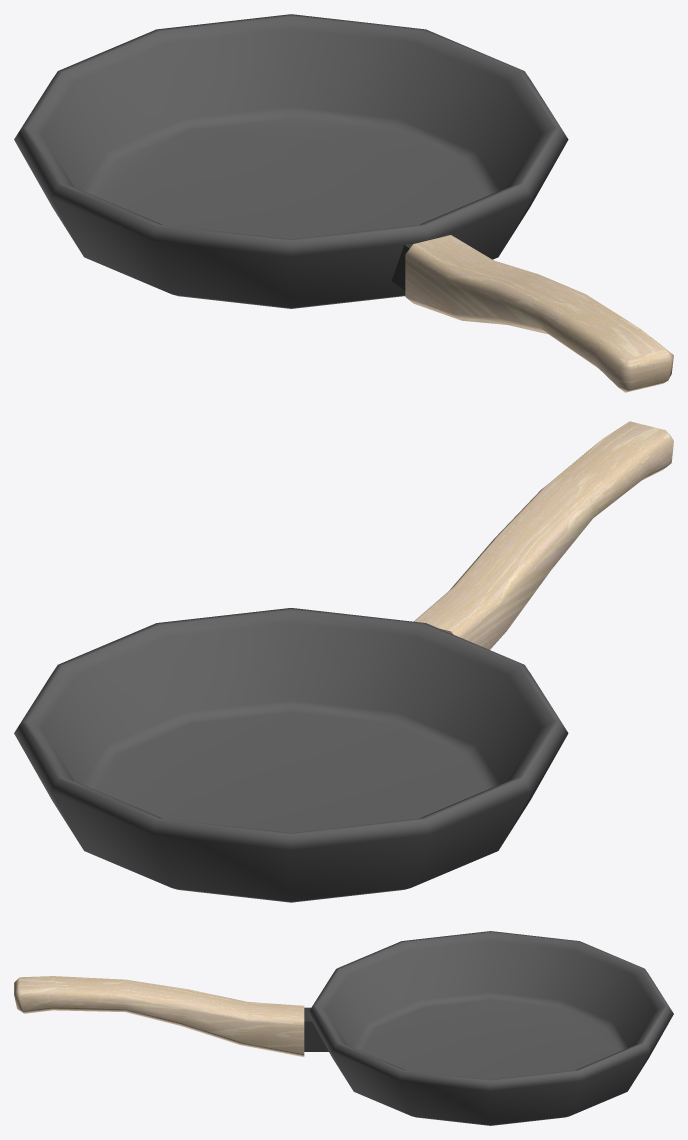
The model's file is prop_006.fbx.
3 renders of one model, top to bottom at view 1: azimuth 30°, elevation 25°; view 2: azimuth 150°, elevation 25°; view 3: azimuth 270°, elevation 25°, orthographic. The views are drawn at different scales.
Visible parts, largest first — view 1: prop_006; view 2: prop_006; view 3: prop_006.
Boxes of the visible parts, x1,y1,x2,y2 form: prop_006: [14, 14, 673, 392]; prop_006: [14, 421, 673, 902]; prop_006: [14, 931, 673, 1125].
Size of the model in its own units: 35.91 by 64.66 by 8.72.
